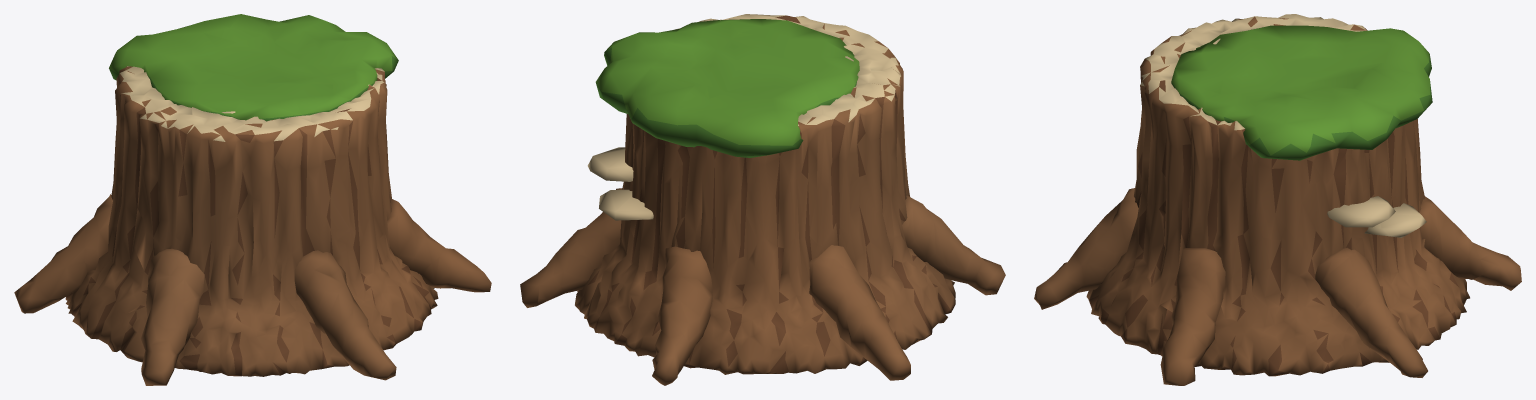
File: glade_mossy_stump.glb
The picture shows the model from 3 angles, left to right: view 1: azimuth 30°, elevation 25°; view 2: azimuth 150°, elevation 25°; view 3: azimuth 270°, elevation 25°; orthographic projection. The views are drawn at different scales.
Parts seen in each view (by area): view 1: glade_mossy_stump; view 2: glade_mossy_stump; view 3: glade_mossy_stump.
Boxes of the visible parts, <box> form: glade_mossy_stump: <box>14,14,491,385</box>; glade_mossy_stump: <box>520,14,1005,385</box>; glade_mossy_stump: <box>1034,14,1521,385</box>.
Size of the model in its own units: 10.81 by 6.44 by 11.71.
